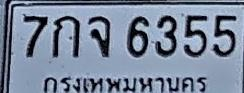3: (155, 14, 177, 57)
5: (212, 14, 236, 57), (184, 14, 208, 57)
6: (127, 15, 149, 57)
7: (23, 14, 48, 58)
A01: (52, 15, 80, 58)
A08: (88, 15, 110, 57)
BKK: (39, 73, 214, 93)
